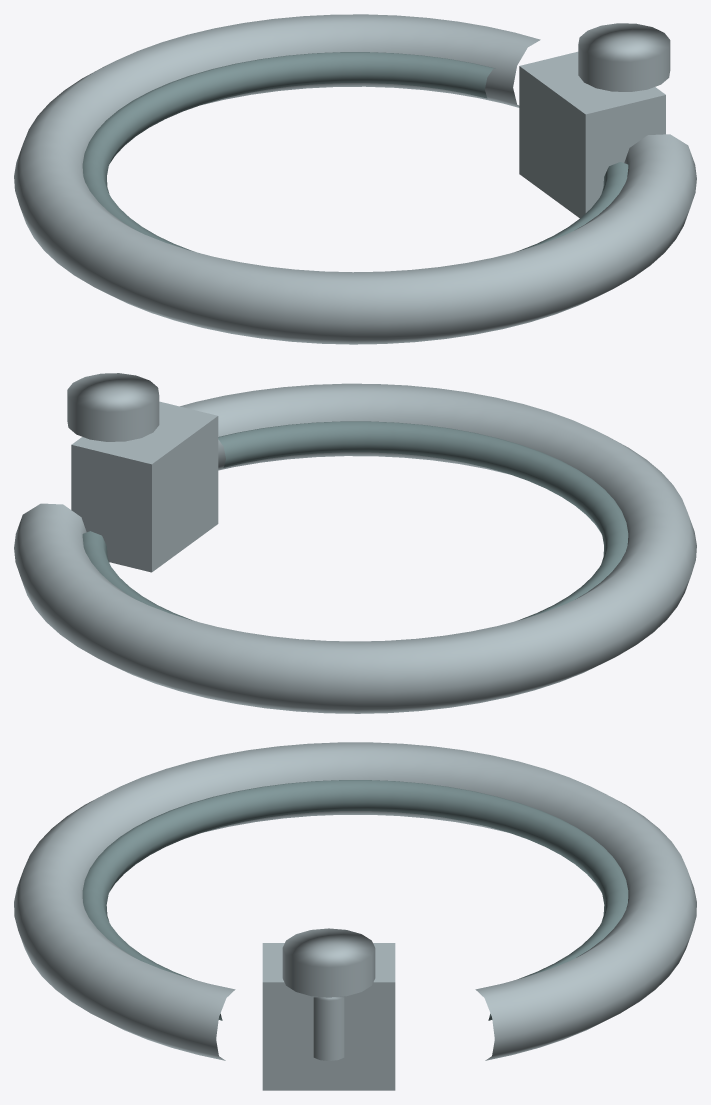
Rendered from tube_clamp.glb.
3 renders of one model, top to bottom at view 1: azimuth 30°, elevation 25°; view 2: azimuth 150°, elevation 25°; view 3: azimuth 270°, elevation 25°, orthographic.
Visible parts, largest first — view 1: ClampBand, SoftLiner, LatchBlock, HingeBlock, ClampScrewHead; view 2: ClampBand, SoftLiner, HingeBlock, LatchBlock, ClampScrewHead; view 3: ClampBand, SoftLiner, HingeBlock, LatchBlock, ClampScrewHead, ClampScrewStem.
Boxes of the visible parts, <box> form: ClampBand: <box>14,14,696,344</box>; SoftLiner: <box>82,52,628,251</box>; LatchBlock: <box>546,78,665,218</box>; HingeBlock: <box>519,51,592,202</box>; ClampScrewHead: <box>578,23,670,91</box>; ClampBand: <box>14,383,696,713</box>; SoftLiner: <box>82,421,628,621</box>; HingeBlock: <box>71,427,191,572</box>; LatchBlock: <box>145,401,218,552</box>; ClampScrewHead: <box>67,373,159,441</box>; ClampBand: <box>14,742,696,1060</box>; SoftLiner: <box>82,780,628,1020</box>; HingeBlock: <box>315,943,395,1090</box>; LatchBlock: <box>262,943,341,1090</box>; ClampScrewHead: <box>282,928,375,997</box>; ClampScrewStem: <box>313,997,344,1060</box>.
Size of the model in its own units: 0.0103 by 0.0023 by 0.0103.
